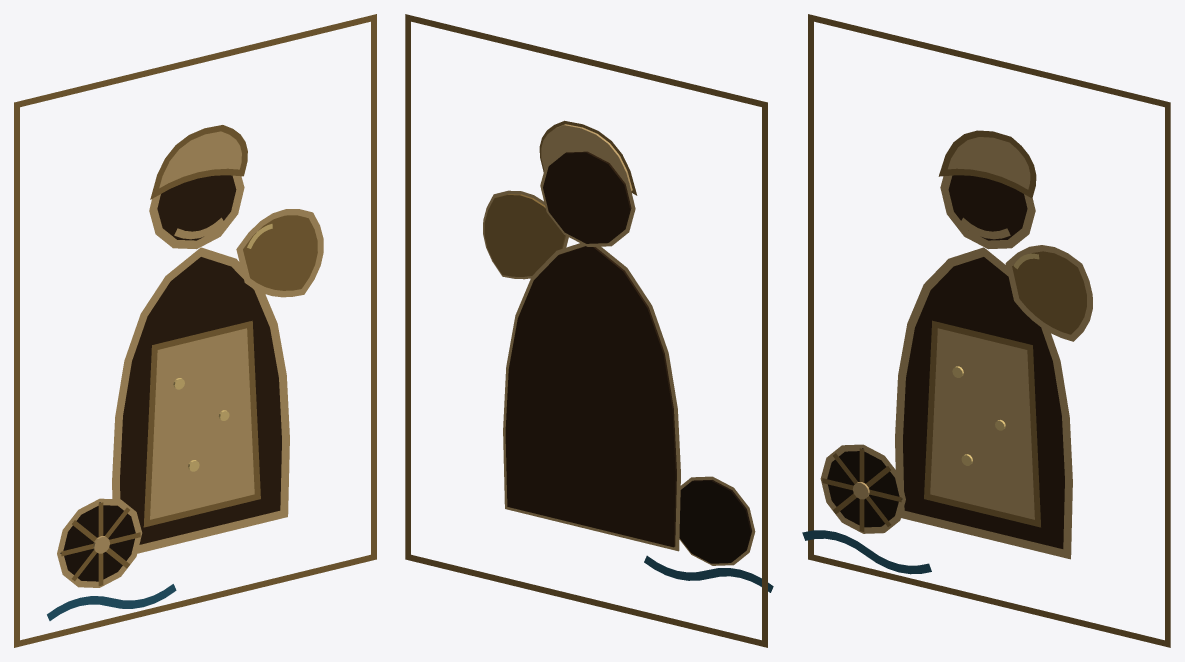
File: npc-melnik.glb
3 views of the same model, side by side, from view 1: azimuth 30°, elevation 25°; view 2: azimuth 150°, elevation 25°; view 3: azimuth 330°, elevation 25° (orthographic).
Parts seen in each view (by area): view 1: npc-melnik; view 2: npc-melnik; view 3: npc-melnik.
Part boxes in pixels (x1,y1,x2,y2): npc-melnik: (14, 14, 376, 647); npc-melnik: (405, 14, 773, 647); npc-melnik: (802, 14, 1170, 647).
Size of the model in its own units: 1.14 by 1.64 by 0.1054.
